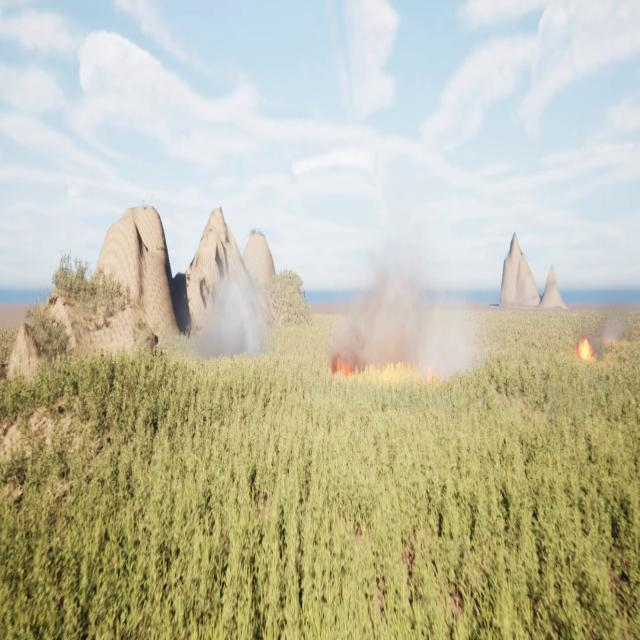fire: (330, 353, 352, 376), (575, 334, 593, 360)
smoke: (328, 238, 466, 378), (191, 268, 270, 356), (592, 316, 627, 351)
